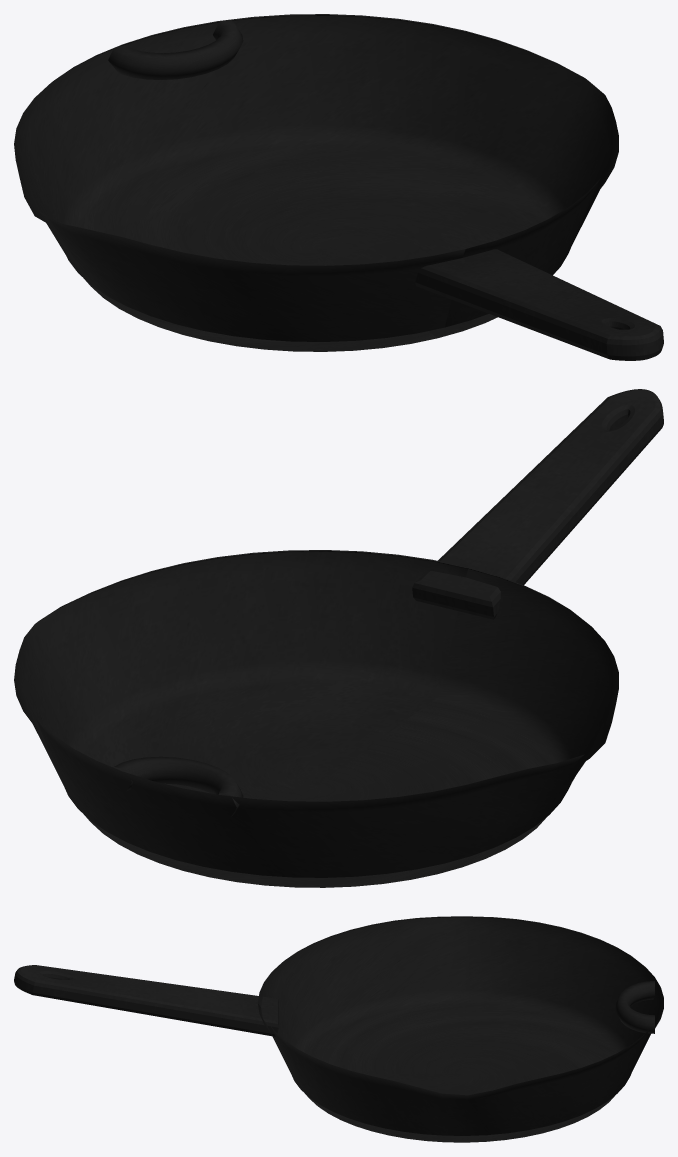
The model's file is objects-pan.glb.
The picture shows the model from 3 angles, top to bottom: view 1: azimuth 30°, elevation 25°; view 2: azimuth 150°, elevation 25°; view 3: azimuth 270°, elevation 25°; orthographic projection. The views are drawn at different scales.
Visible parts, largest first — view 1: pan_body, handle, helper_handle; view 2: pan_body, handle, helper_handle; view 3: pan_body, handle, helper_handle.
Part boxes in pixels (<box>): pan_body: <box>14,14,618,351</box>; handle: <box>415,249,663,360</box>; helper_handle: <box>108,19,243,79</box>; pan_body: <box>14,550,618,887</box>; handle: <box>412,389,663,619</box>; helper_handle: <box>114,756,243,816</box>; pan_body: <box>258,916,663,1142</box>; handle: <box>14,965,278,1036</box>; helper_handle: <box>615,981,654,1033</box>.
Size of the model in its own units: 0.2748 by 0.0733 by 0.4157.
1 material, 1 textured.
